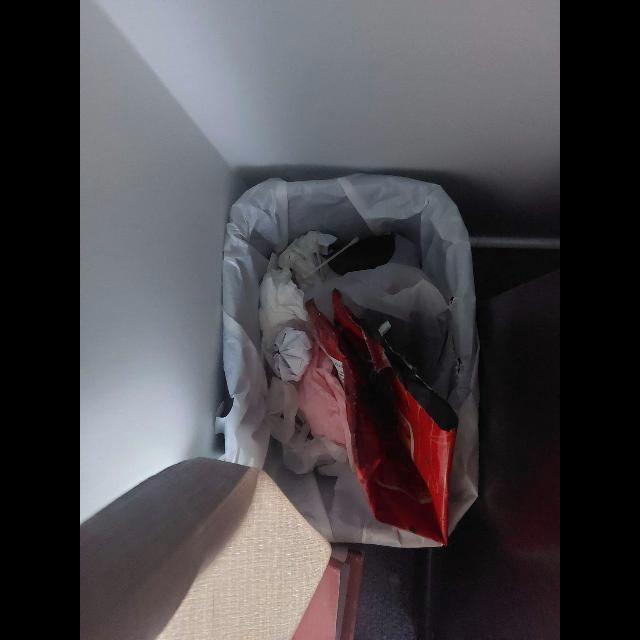food_wrapper: (298, 290, 459, 546)
paper: (258, 253, 316, 383)
